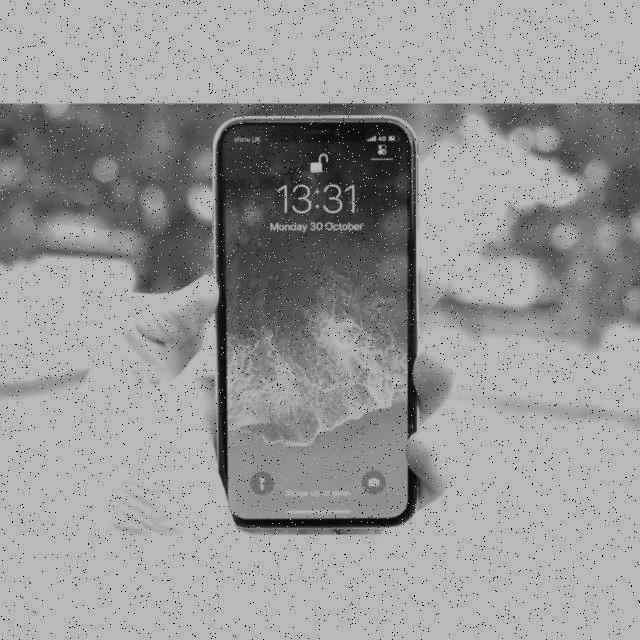fake: (212, 114, 425, 531)
